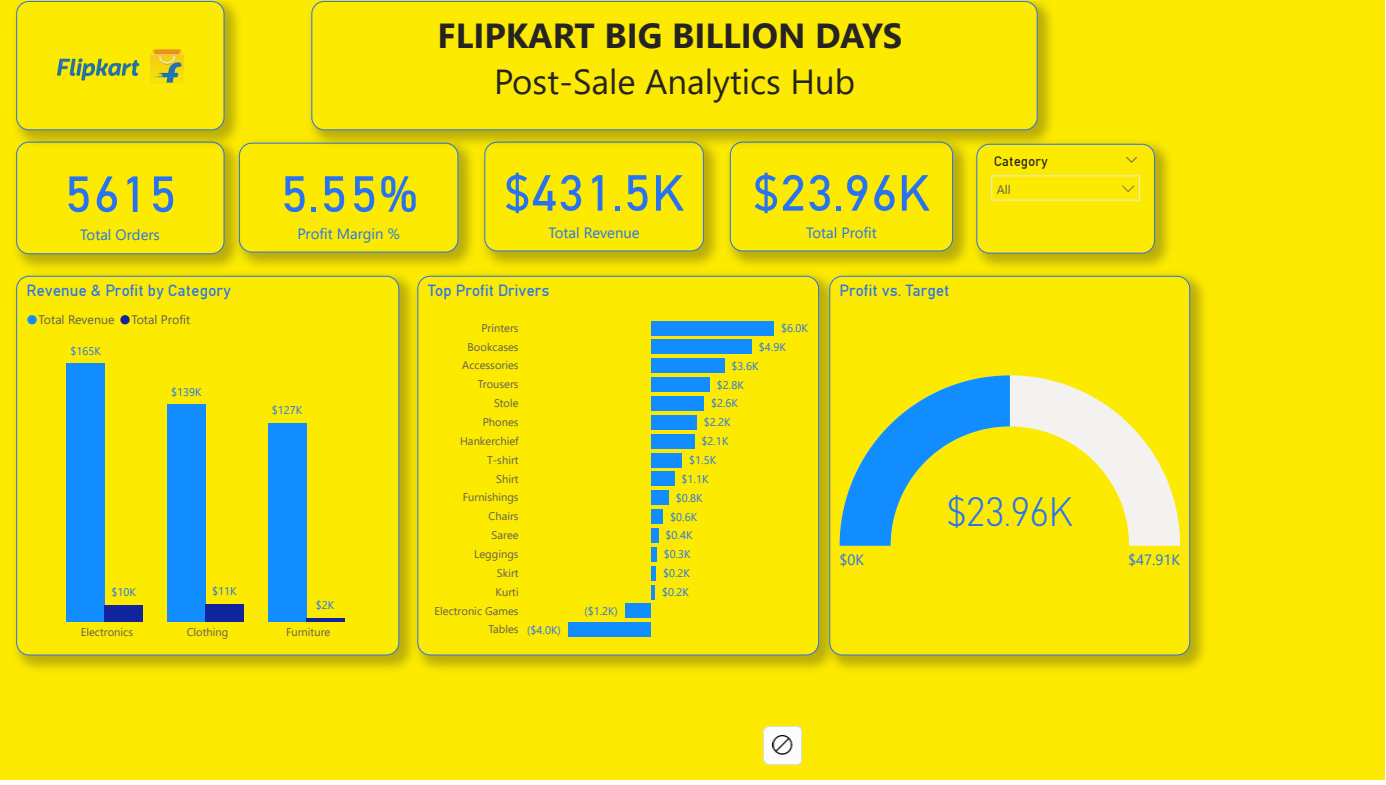

The dashboard page shown, as its layout file describes it:
{"tool":"powerbi","page":{"name":"Executive Overview","canvas":[1280,720],"ordinal":0},"visuals":[{"type":"card","fields":{"Values":["_Key Measures.Profit Margin %"]},"box":[256.6,152.3,236,118],"z":0},{"type":"card","fields":{"Values":["_Key Measures.Total Orders"]},"box":[17.8,150.9,223.7,120.8],"z":1000},{"type":"card","fields":{"Values":["_Key Measures.Total Profit"]},"box":[784.9,150.9,240.1,118],"z":2000},{"type":"card","fields":{"Values":["_Key Measures.Total Revenue"]},"box":[521.4,150.9,236,118],"z":3000},{"type":"textbox","box":[335.1,0,781.5,139.1],"z":4000},{"type":"clusteredColumnChart","title":"Revenue & Profit by Category","fields":{"Category":["Category_Dim.Category"],"Y":["_Key Measures.Total Revenue","_Key Measures.Total Profit"]},"box":[17.8,295,411.7,407.5],"z":5000},{"type":"clusteredBarChart","title":"Top Profit Drivers","fields":{"Category":["Order_Details[1].Sub-Category"],"Y":["_Key Measures.Total Profit"]},"box":[448.7,295,432.2,407.5],"z":6000},{"type":"gauge","title":"Profit vs. Target","fields":{"Y":["_Key Measures.Total Profit"],"TargetValue":["_Key Measures.Total Target"]},"box":[891.9,295,388.3,407.5],"z":7000},{"type":"slicer","fields":{"Values":["Category_Dim.Category"]},"box":[1049.7,153.7,192.1,118],"z":8000},{"type":"image","box":[17.8,0,223.7,139.1],"z":9000}]}

Visuals, with their boxes in screenshot pixels (x1, y1, x2, y2), scaled from the page's 1280x720 canvas onto the 1386x785 screenshot:
card - _Key Measures.Profit Margin %: rect(278, 166, 533, 295)
card - _Key Measures.Total Orders: rect(19, 165, 261, 296)
card - _Key Measures.Total Profit: rect(850, 165, 1110, 293)
card - _Key Measures.Total Revenue: rect(565, 165, 820, 293)
textbox: rect(363, 0, 1209, 152)
"Revenue & Profit by Category" clusteredColumnChart: rect(19, 322, 465, 766)
"Top Profit Drivers" clusteredBarChart: rect(486, 322, 954, 766)
"Profit vs. Target" gauge: rect(966, 322, 1385, 766)
slicer - Category_Dim.Category: rect(1137, 168, 1345, 296)
image: rect(19, 0, 261, 152)
